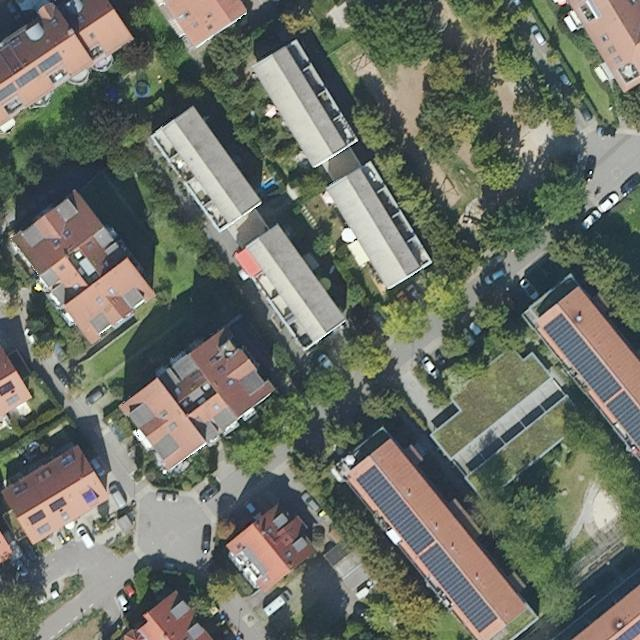PV: (353, 462, 501, 637), (541, 311, 639, 452), (463, 386, 566, 474), (616, 619, 639, 639)
